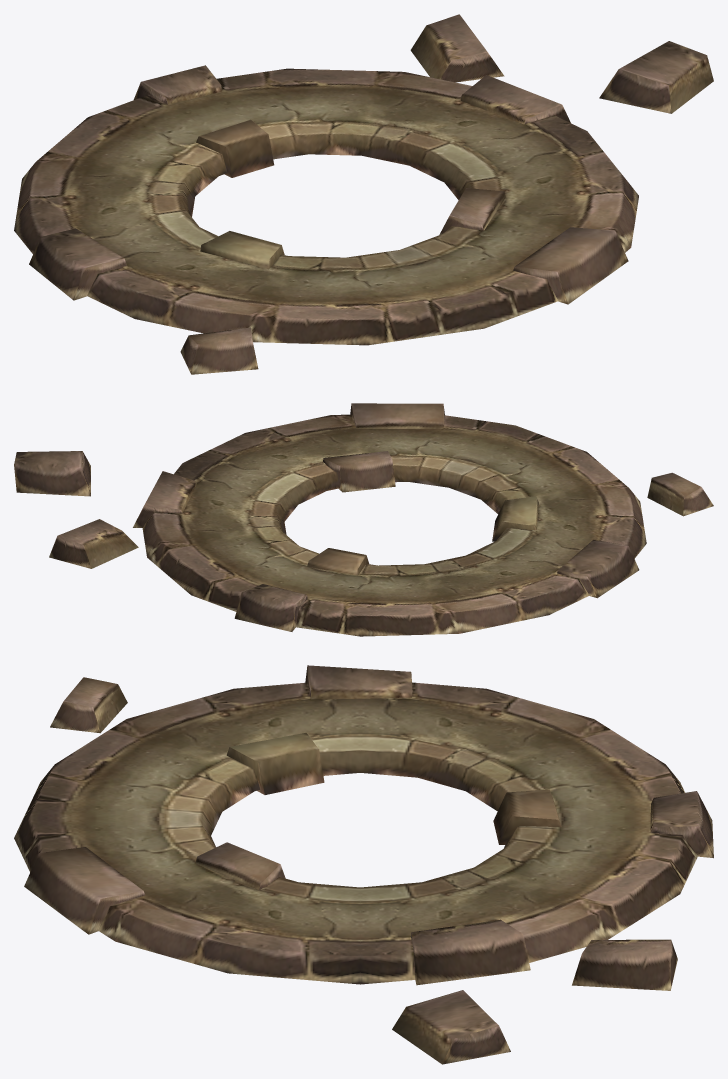
Rendered from FB5_ditaikuang_1.FBX.
3 views of the same model, one above another, from view 1: azimuth 30°, elevation 25°; view 2: azimuth 150°, elevation 25°; view 3: azimuth 270°, elevation 25° (orthographic). The views are drawn at different scales.
Visible parts, largest first — view 1: FB5_ditaikuang_1; view 2: FB5_ditaikuang_1; view 3: FB5_ditaikuang_1.
Part boxes in pixels (x1=…): FB5_ditaikuang_1: x1=14, y1=14, x2=713, y2=374; FB5_ditaikuang_1: x1=14, y1=403, x2=713, y2=636; FB5_ditaikuang_1: x1=14, y1=665, x2=713, y2=1064.
Bounding box in the file's own units: 57566 × 2367 × 45201.
Materials: 1 (1 with a texture image).
